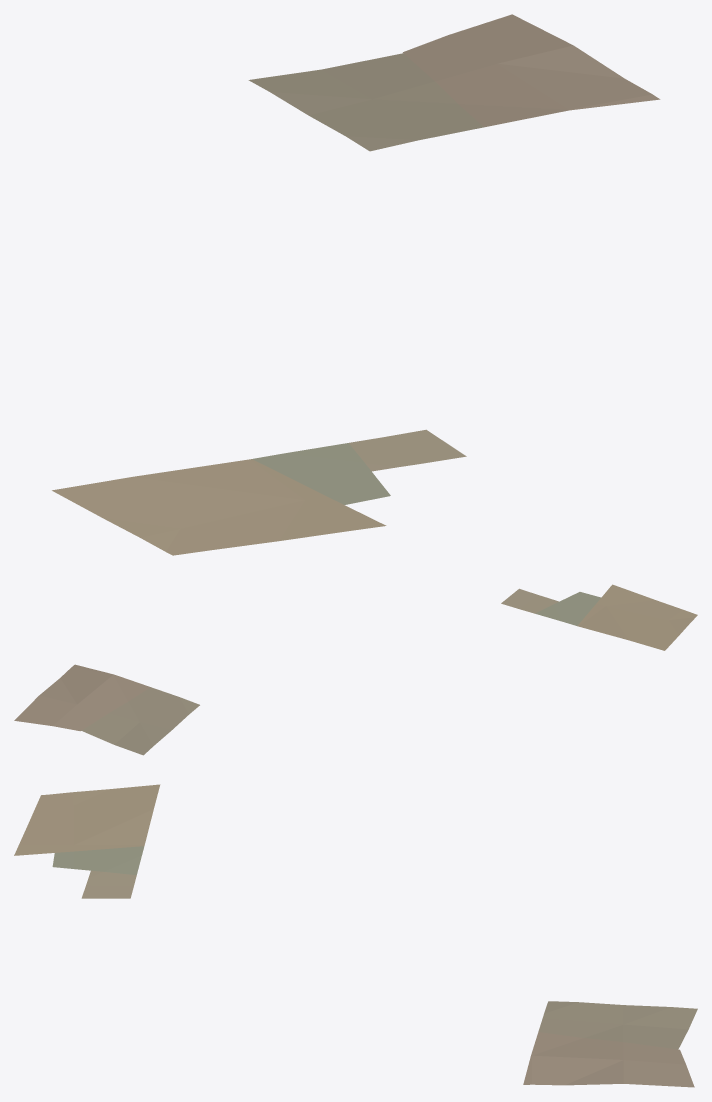
File: farm_8_11_soil.glb
3 renders of one model, top to bottom at view 1: azimuth 30°, elevation 25°; view 2: azimuth 150°, elevation 25°; view 3: azimuth 270°, elevation 25°, orthographic. The views are drawn at different scales.
Visible parts, largest first — view 1: geometry_0; view 2: geometry_0; view 3: geometry_0.
Boxes of the visible parts, x1,y1,x2,y2 form: geometry_0: [52, 14, 660, 555]; geometry_0: [14, 584, 697, 755]; geometry_0: [14, 784, 697, 1087].
Bounding box in the file's own units: 573 × 31.06 × 597.
